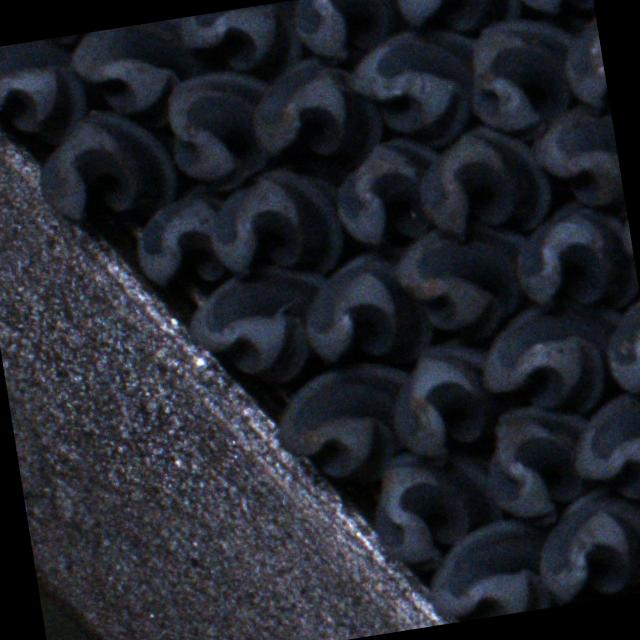tool_b: (472, 291, 635, 427), (180, 261, 342, 394), (269, 359, 426, 492), (387, 212, 540, 348), (347, 20, 491, 156), (363, 442, 510, 575), (30, 99, 178, 231), (202, 160, 352, 290), (410, 116, 554, 247), (296, 242, 438, 368), (461, 11, 592, 144), (246, 50, 386, 174), (473, 397, 603, 530), (508, 193, 640, 322), (161, 64, 286, 195), (421, 516, 556, 626), (326, 132, 452, 248), (528, 482, 640, 608), (384, 338, 499, 458), (65, 18, 196, 122), (126, 182, 236, 296), (529, 99, 626, 217), (0, 34, 91, 155), (176, 0, 308, 83), (565, 386, 640, 506), (292, 0, 410, 65), (394, 0, 525, 39)
